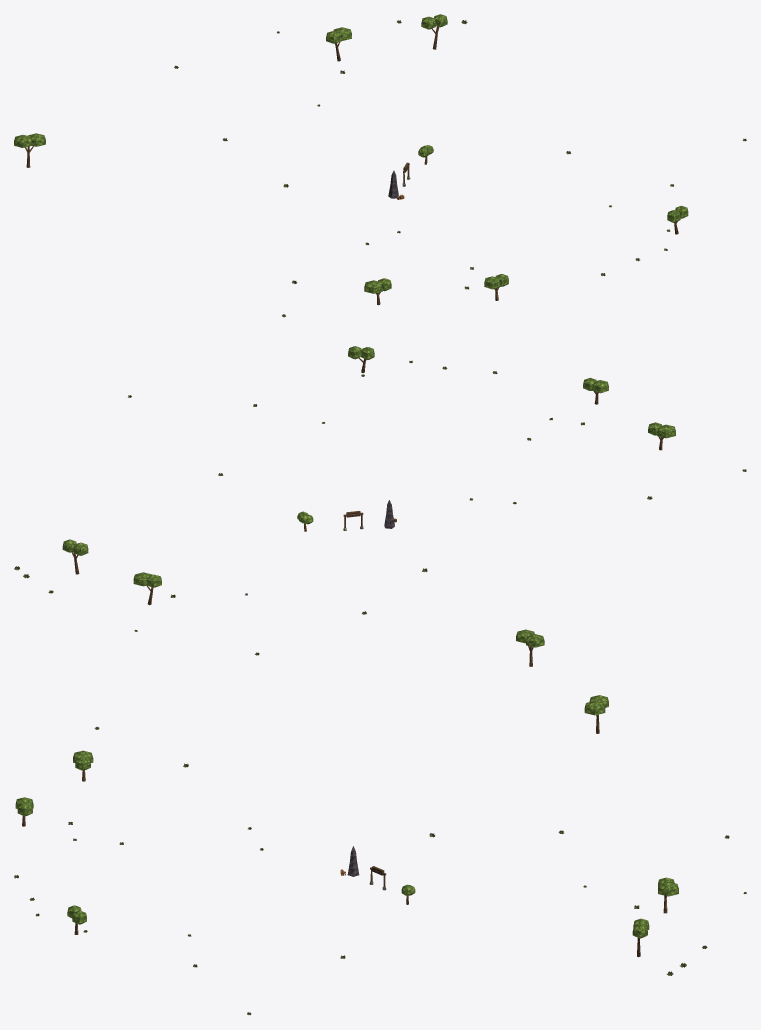
Rendered from FieldCell_5_3.fbx.
3 views of the same model, one above another, from view 1: azimuth 30°, elevation 25°; view 2: azimuth 150°, elevation 25°; view 3: azimuth 270°, elevation 25° (orthographic). The views are drawn at different scales.
Visible parts, largest first — view 1: FieldCell_5_3; view 2: FieldCell_5_3; view 3: FieldCell_5_3.
Part boxes in pixels (<box>): FieldCell_5_3: <box>14,14,688,305</box>; FieldCell_5_3: <box>62,346,675,666</box>; FieldCell_5_3: <box>15,695,678,957</box>.
Size of the model in its own units: 14423 by 1084 by 14900.
